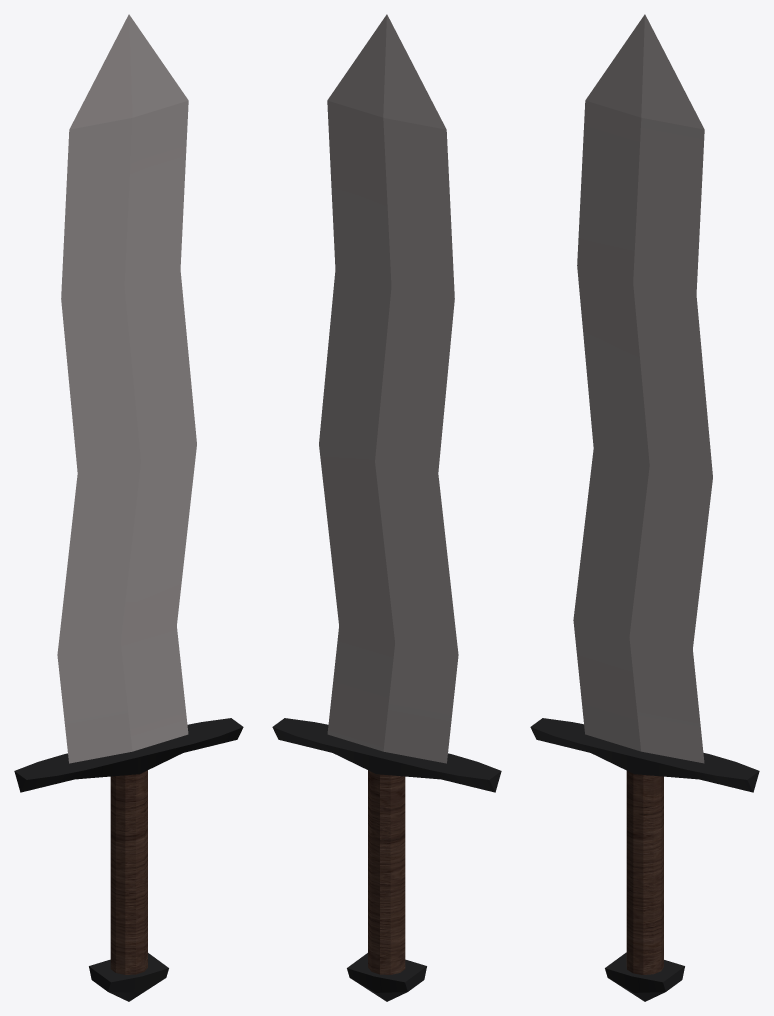
The model's file is Xander_KnightSword_FINAL.fbx.
The picture shows the model from 3 angles, left to right: view 1: azimuth 30°, elevation 25°; view 2: azimuth 150°, elevation 25°; view 3: azimuth 330°, elevation 25°; orthographic projection.
Parts seen in each view (by area): view 1: pCube4; view 2: pCube4; view 3: pCube4.
Boxes of the visible parts, x1,y1,x2,y2 form: pCube4: (14,14,243,1001); pCube4: (272,14,501,1001); pCube4: (530,14,759,1001).
Bounding box in the file's own units: 11.89 × 51.75 × 2.43.
Materials: 1 (1 with a texture image).
